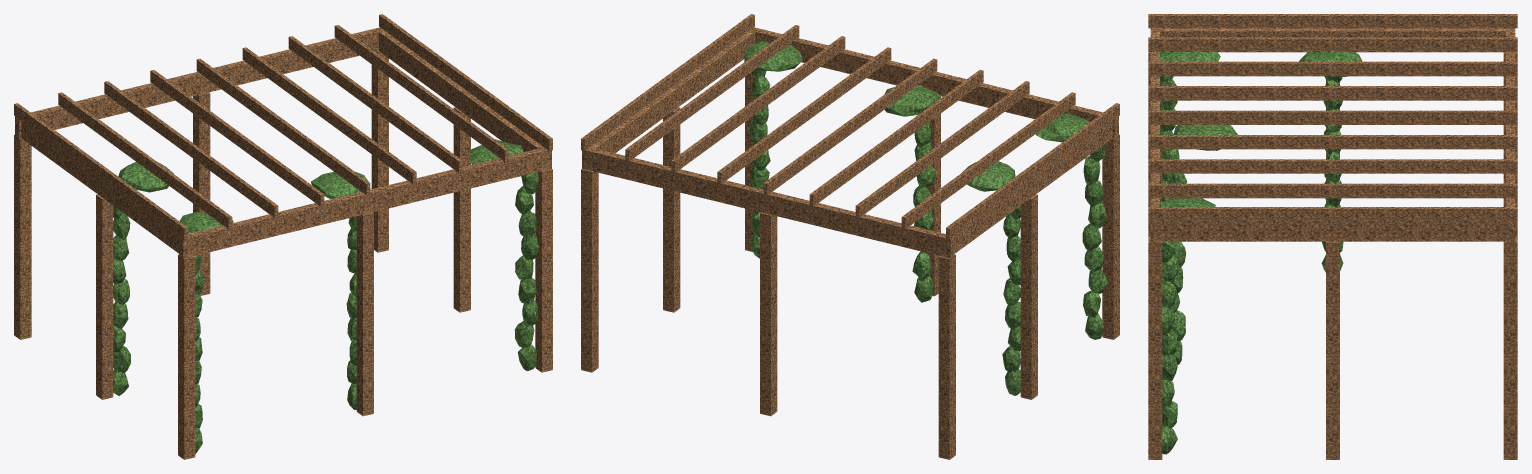
The picture shows the model from 3 angles, left to right: view 1: azimuth 30°, elevation 25°; view 2: azimuth 150°, elevation 25°; view 3: azimuth 270°, elevation 25°; orthographic projection. The views are drawn at different scales.
Parts seen in each view (by area): view 1: timber (×17), structure.pergola (×2); view 2: timber (×17), structure.pergola (×2); view 3: timber (×12), structure.pergola (×2).
Part boxes in pixels (x1,y1,x2,y2): timber (×17): [14, 14, 552, 459]; structure.pergola (×2): [15, 27, 551, 453]; timber (×17): [581, 14, 1119, 459]; structure.pergola (×2): [582, 27, 1118, 395]; timber (×12): [1148, 14, 1517, 459]; structure.pergola (×2): [1150, 28, 1515, 454].
Bounding box in the file's own units: 5 × 4 × 3.04.
Materials: 2 (2 with a texture image).
